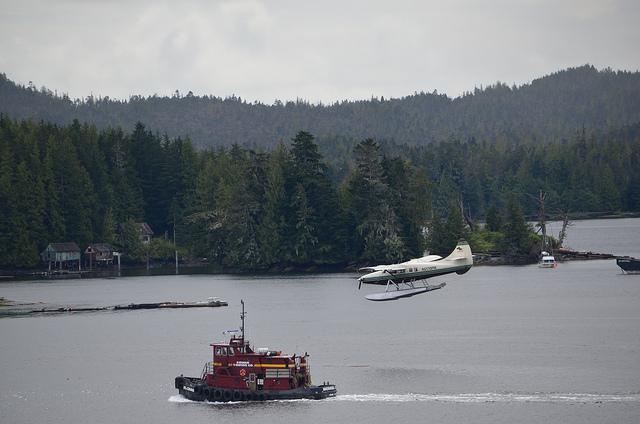airplane: (354, 235, 475, 303)
